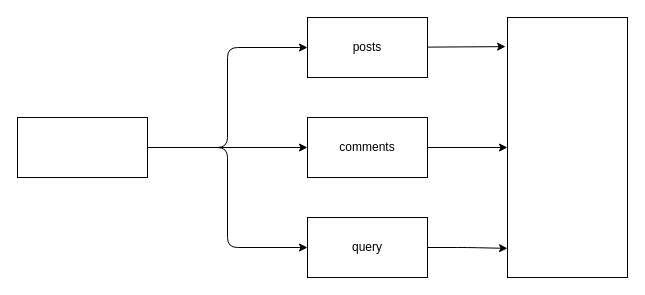
Image size: 645x295. Some labels were removed from this diagram. Each missing label, with the centre of its shape:
"client" goes at (82,147).
"event bus" goes at (567,147).
